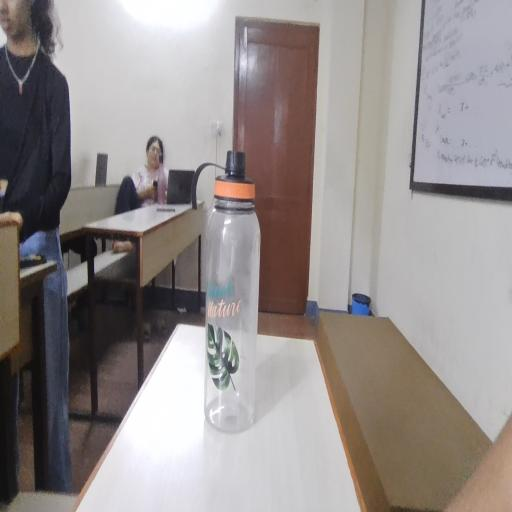Bottle: (174, 126, 288, 442)
